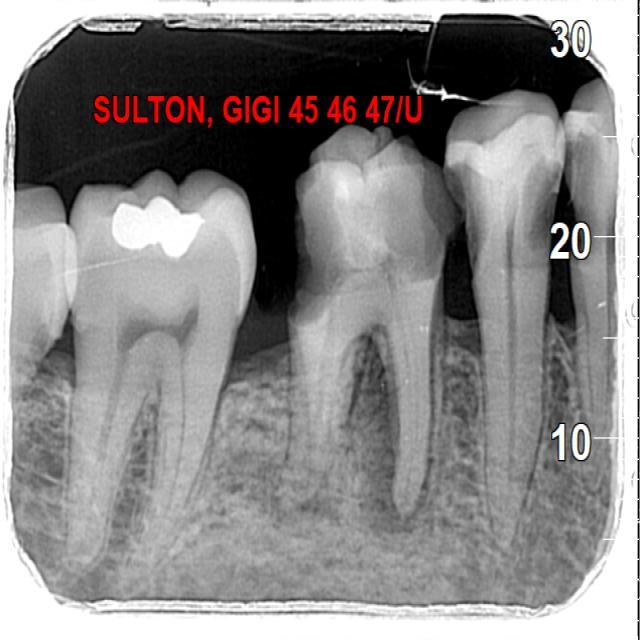individual-tooth-8tto: (55, 168, 252, 574), (288, 122, 448, 519), (443, 84, 560, 571)
